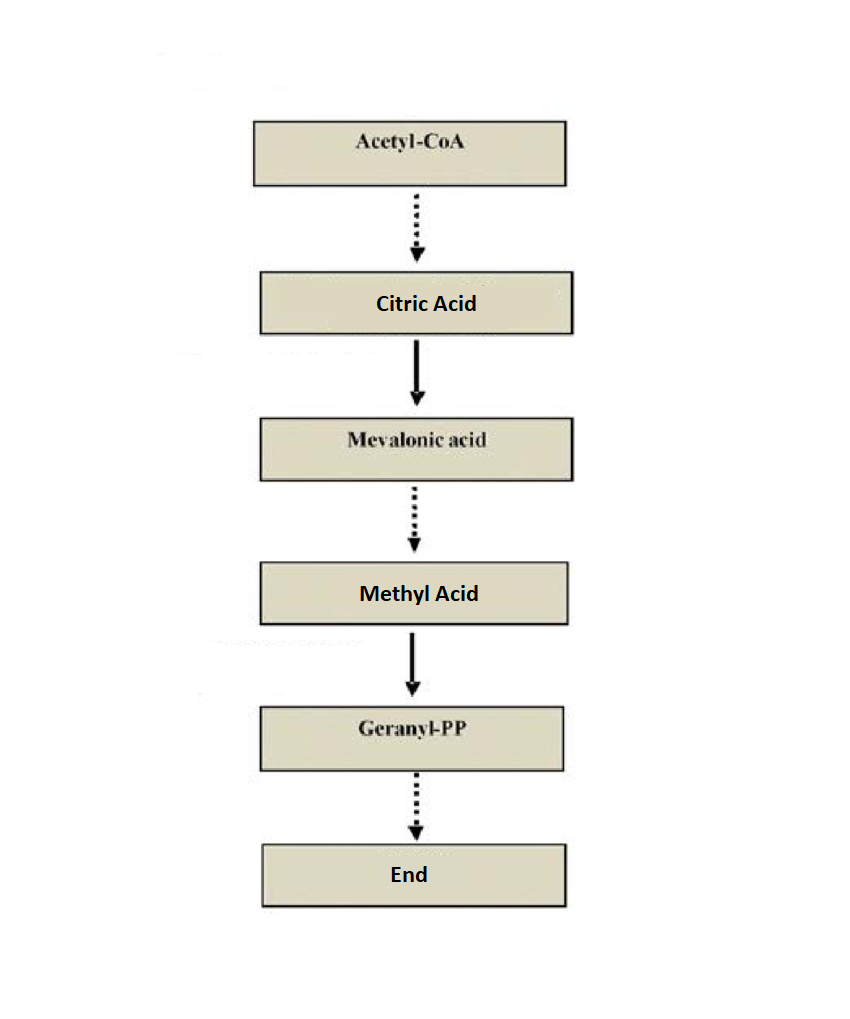arrow: (401, 770, 432, 842), (401, 481, 427, 556), (407, 330, 429, 408), (402, 625, 424, 701), (407, 189, 427, 265)
process: (255, 264, 577, 340), (254, 701, 571, 778), (247, 115, 572, 190), (254, 411, 579, 486), (255, 837, 572, 912), (254, 558, 577, 630)
text: (347, 428, 490, 455), (354, 578, 483, 605), (354, 715, 469, 740), (371, 290, 482, 315), (352, 130, 466, 153), (386, 864, 435, 884)
